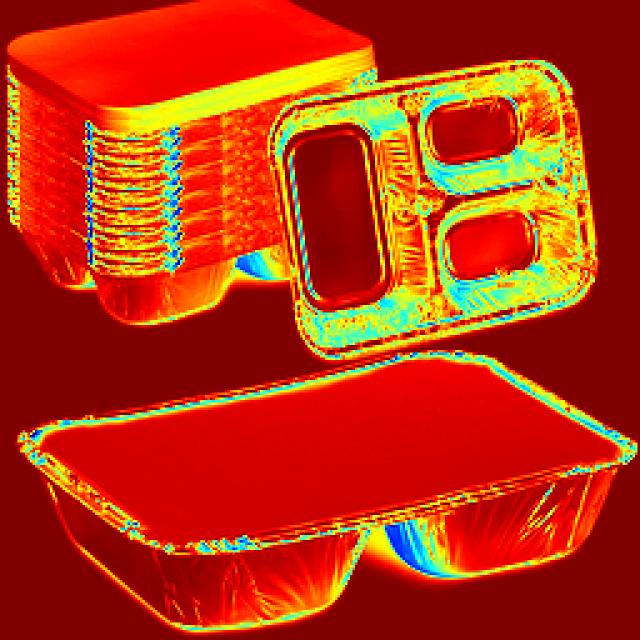Aluminium Food Cans: (24, 316, 620, 614), (273, 109, 578, 317)
